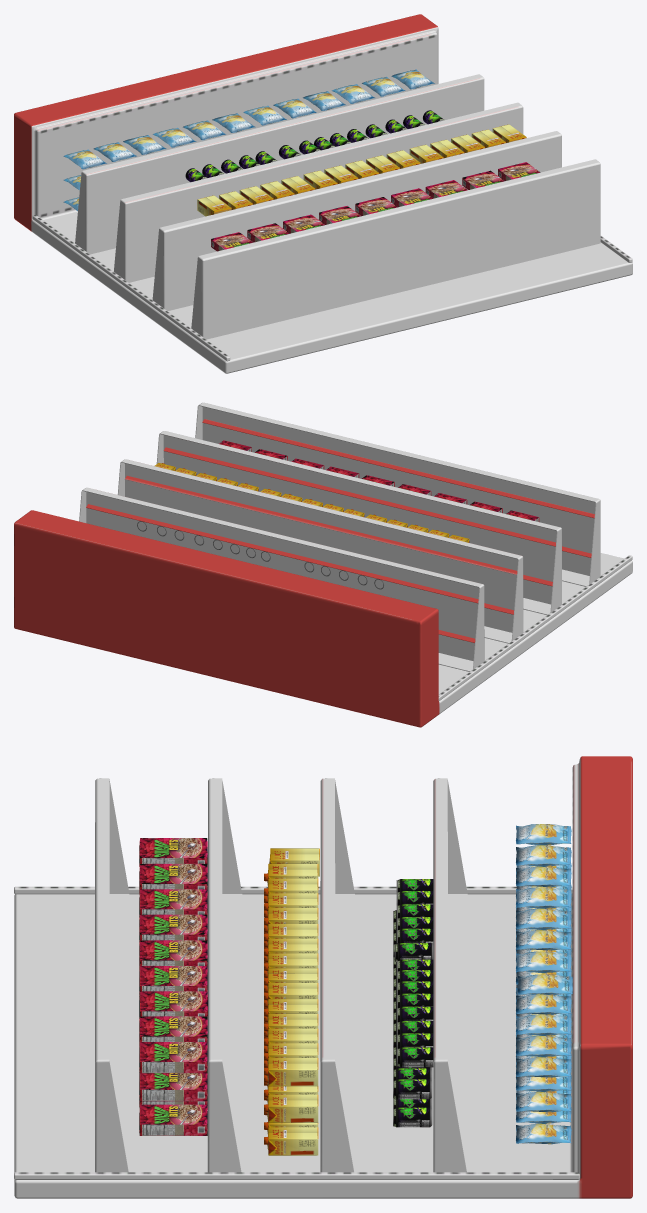
Rendered from shoppingshelf_variant_(1).gltf.
3 renders of one model, top to bottom at view 1: azimuth 30°, elevation 25°; view 2: azimuth 150°, elevation 25°; view 3: azimuth 270°, elevation 25°, orthographic. The views are drawn at different scales.
Visible parts, largest first — view 1: ShoppingShelf Variant (1), CerealBox_Mid__400_Tris_ (×3), CerealBox_High__800_Tris_ (×2), CerealBox_Low__260_Tris_; view 2: ShoppingShelf Variant (1); view 3: ShoppingShelf Variant (1), JuicePack_High__1050_Tris_ (×16), CerealBox_Low__260_Tris_ (×5), Chips_Low__150_Tris_ (×6), CerealBox_Mid__400_Tris_ (×3), Chips_Mid__200_Tris_ (×5), Chips_High__304_Tris_ (×4), CerealBox_High__800_Tris_ (×2), EnergyDrink_High__326_Tris_ (×3), CerealBox, Chips, JuicePack (+1 smaller).
Boxes of the visible parts, bbox=[...] form: ShoppingShelf Variant (1): bbox=[14, 14, 632, 373]; CerealBox_Mid__400_Tris_ (×3): bbox=[247, 170, 504, 242]; CerealBox_High__800_Tris_ (×2): bbox=[211, 206, 360, 251]; CerealBox_Low__260_Tris_: bbox=[283, 214, 324, 233]; ShoppingShelf Variant (1): bbox=[14, 402, 632, 727]; ShoppingShelf Variant (1): bbox=[14, 756, 632, 1198]; JuicePack_High__1050_Tris_ (×16): bbox=[267, 863, 318, 1155]; CerealBox_Low__260_Tris_ (×5): bbox=[139, 889, 207, 1135]; Chips_Low__150_Tris_ (×6): bbox=[516, 866, 571, 1144]; CerealBox_Mid__400_Tris_ (×3): bbox=[139, 863, 207, 1047]; Chips_Mid__200_Tris_ (×5): bbox=[516, 845, 571, 1123]; Chips_High__304_Tris_ (×4): bbox=[516, 824, 571, 1035]; CerealBox_High__800_Tris_ (×2): bbox=[139, 838, 207, 943]; EnergyDrink_High__326_Tris_ (×3): bbox=[393, 1047, 433, 1127]; CerealBox: bbox=[139, 991, 207, 1019]; Chips: bbox=[517, 974, 572, 995]; JuicePack: bbox=[269, 848, 319, 876].
Size of the model in its own units: 2.36 by 0.5895 by 2.13.
Materials: 6 (6 with a texture image).
